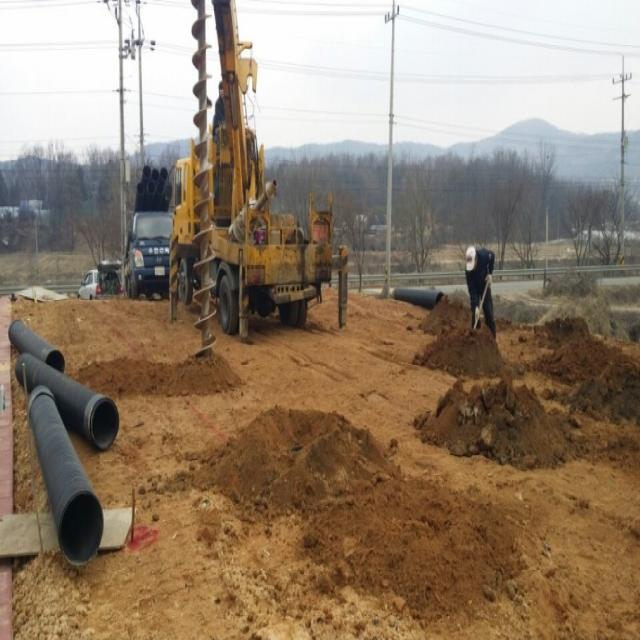pile: (191, 0, 216, 356)
